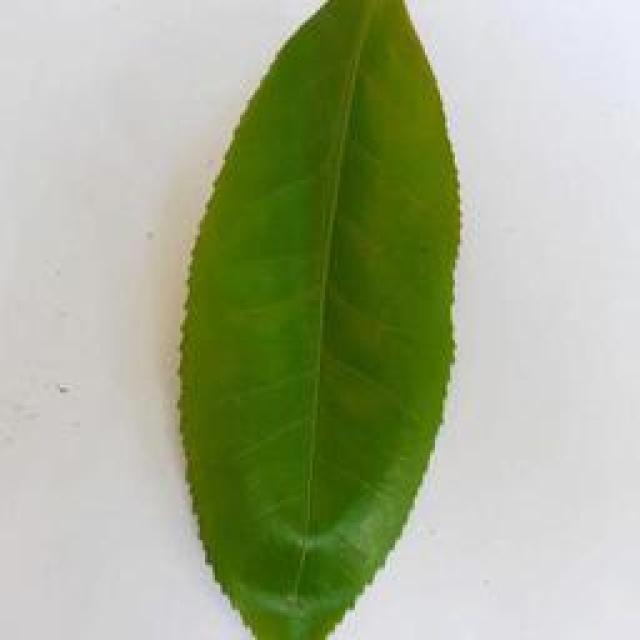Healthy: (175, 0, 471, 638)
